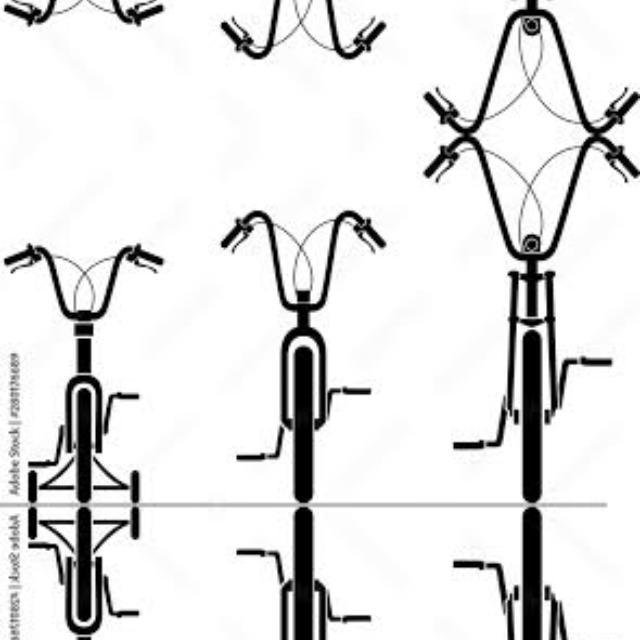obstacle: (428, 133, 636, 504), (210, 203, 392, 502), (427, 504, 636, 640), (427, 0, 636, 134), (210, 507, 392, 640), (210, 0, 392, 64)
